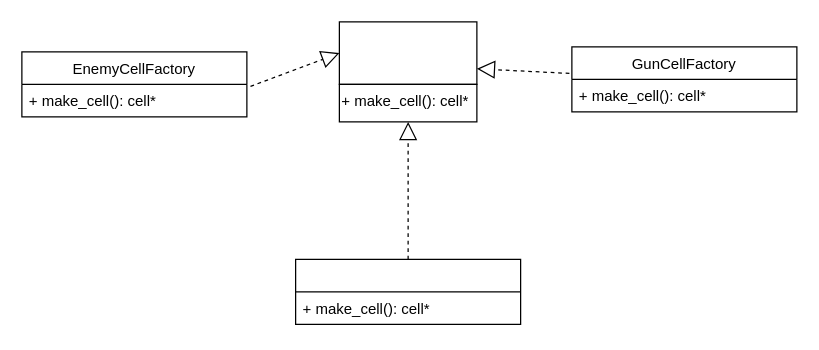
This 819x350 diagram has some shape labels left out. The box of each missing label's shape, as (x1, y1, x2, y2) in pixels:
MedCellFactory: (294, 258, 521, 324)
«interface» CellFactory: (338, 21, 477, 84)
